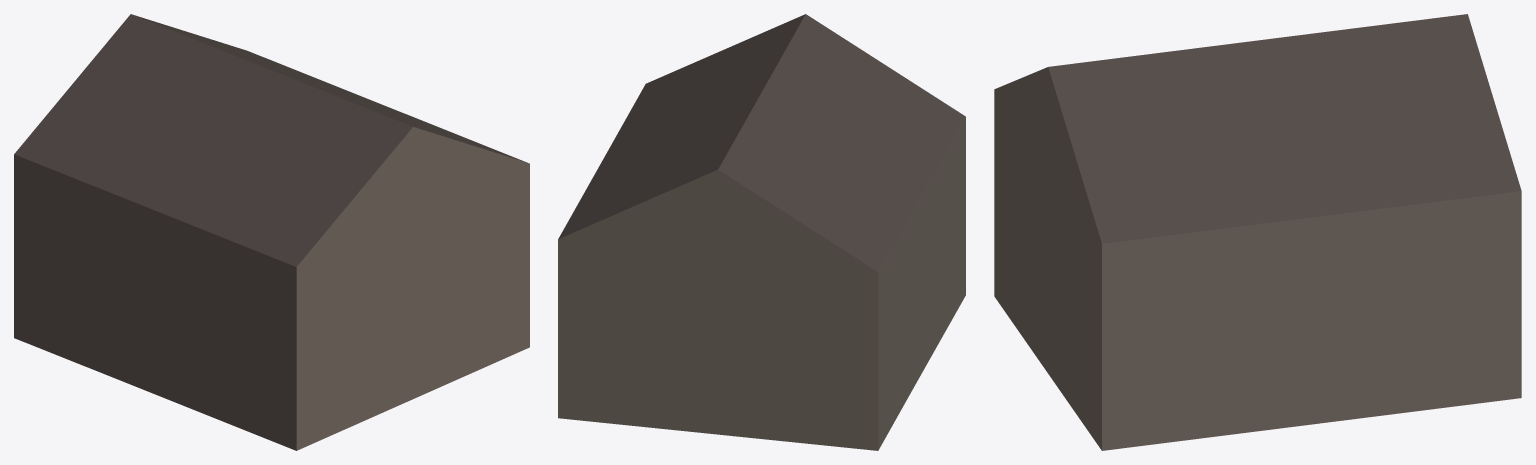
3 renders of one model, left to right at view 1: azimuth 30°, elevation 25°; view 2: azimuth 150°, elevation 25°; view 3: azimuth 270°, elevation 25°, orthographic. The views are drawn at different scales.
Visible parts, largest first — view 1: HP-w1198645103; view 2: HP-w1198645103; view 3: HP-w1198645103.
Boxes of the visible parts, x1,y1,x2,y2 form: HP-w1198645103: (14, 14, 529, 450); HP-w1198645103: (558, 14, 965, 450); HP-w1198645103: (994, 14, 1521, 450).
Size of the model in its own units: 12.89 by 8.89 by 13.85.
